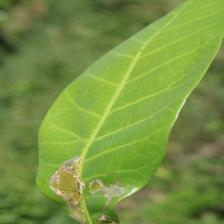leaf miner: (43, 151, 88, 223), (88, 175, 134, 223)
